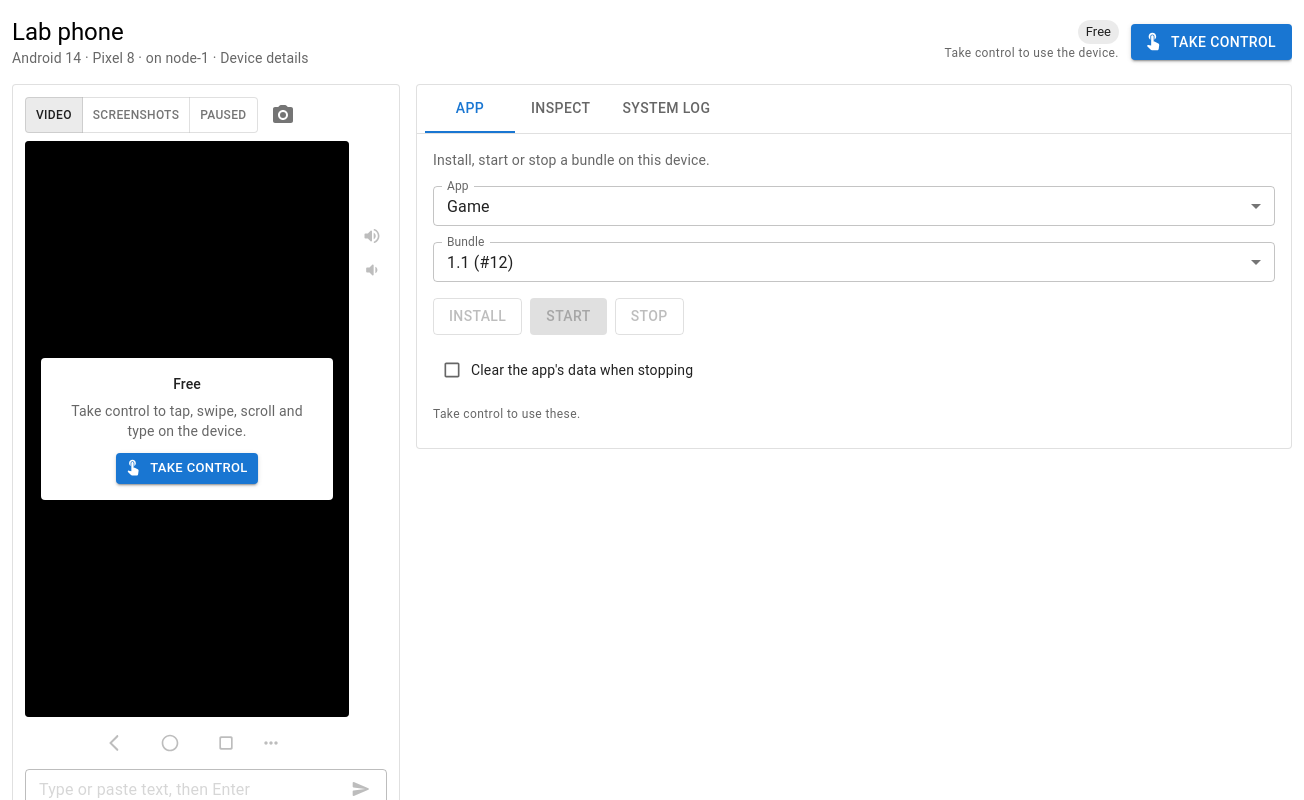
Scenario: the control page: screenshots › closes the menu of more keys without sending a key
This screenshot has width=1304, height=800.
Expected: the heading "Lab phone" is shown, [12,18,124,46]
Click the button "Take control" next to "Take control to use the device.".
click(1211, 42)  # box [1131,24,1292,60]
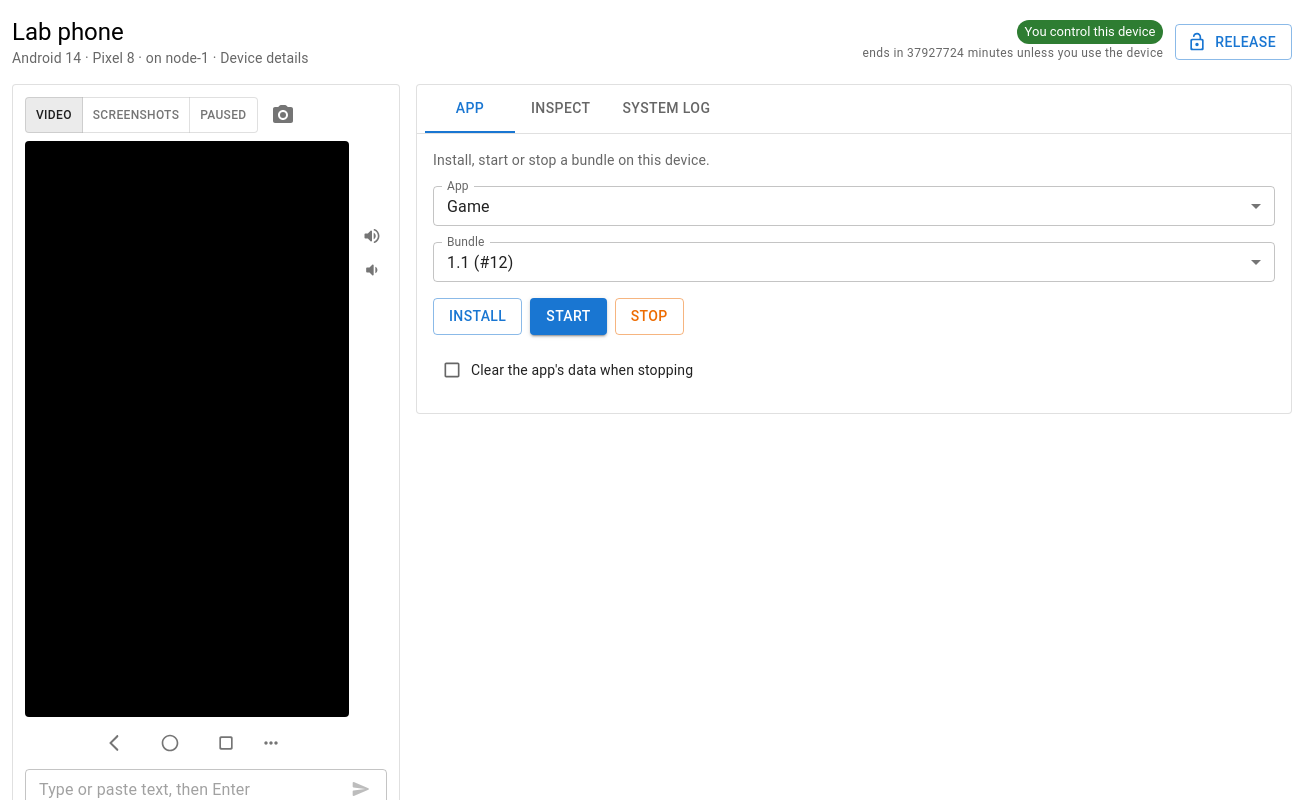
Expected: the text "You control this device" is shown, [1017,22,1163,42]
Click the button named "More keys".
click(271, 743)  # box [256,728,286,758]
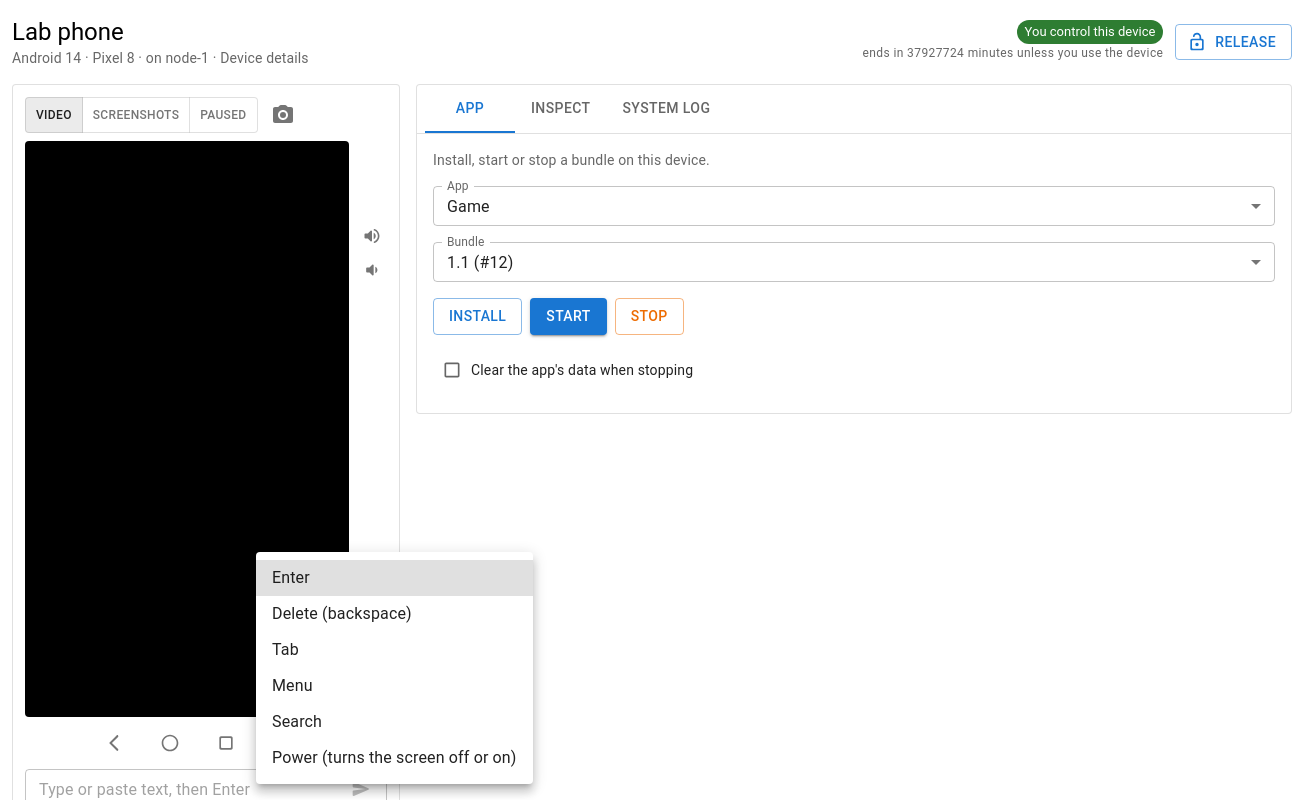
Press Escape in the menu, box [256,552,533,784]
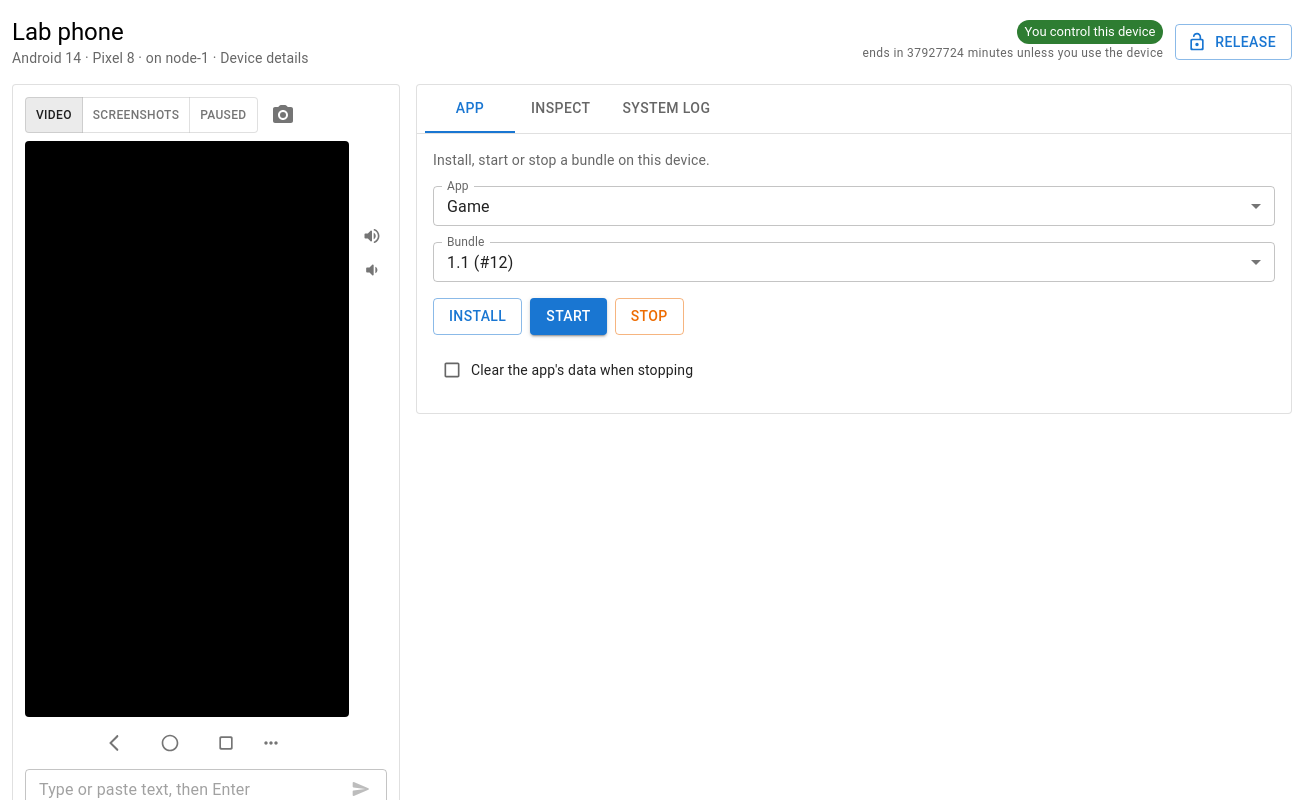
Expected: the menu is gone
